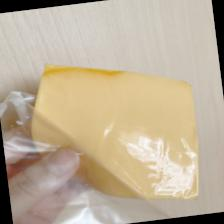cheese: (23, 45, 208, 219)
